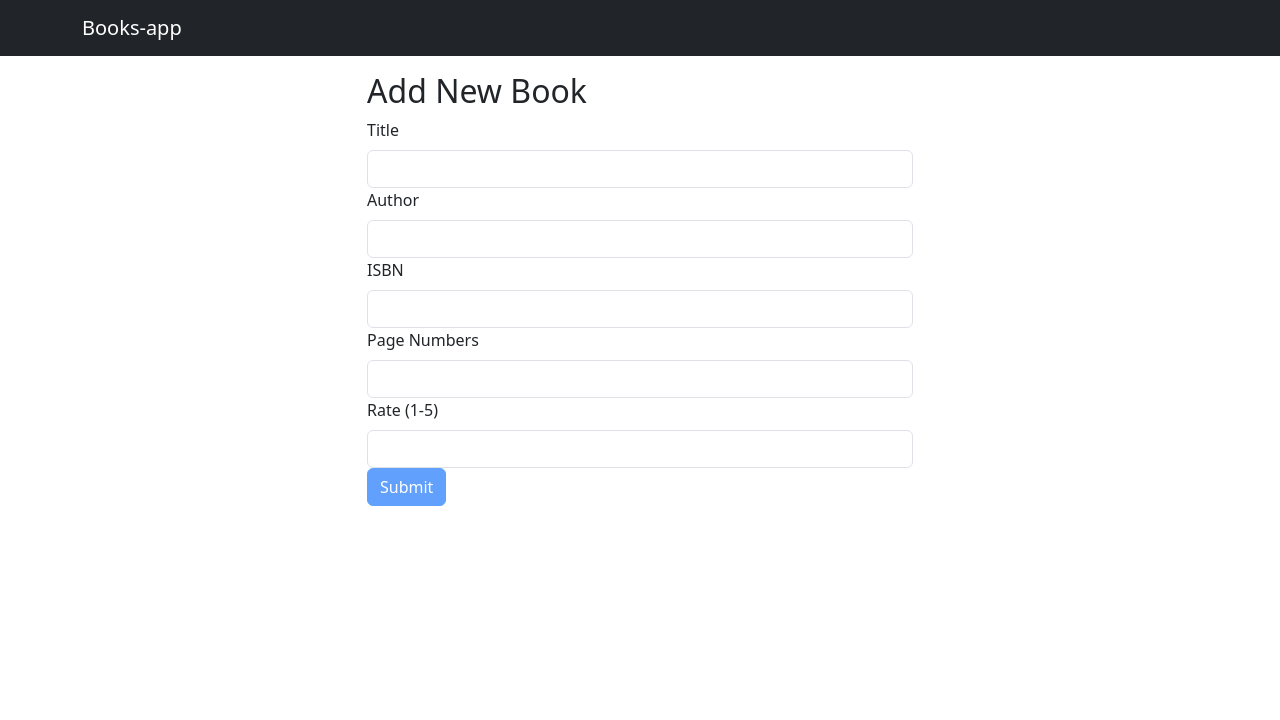
Scenario: BookListPage › should fill form wrongly
Step 1. Type "title" into the field named "title" → point(640, 169), box x1=367 y1=150 x2=913 y2=188
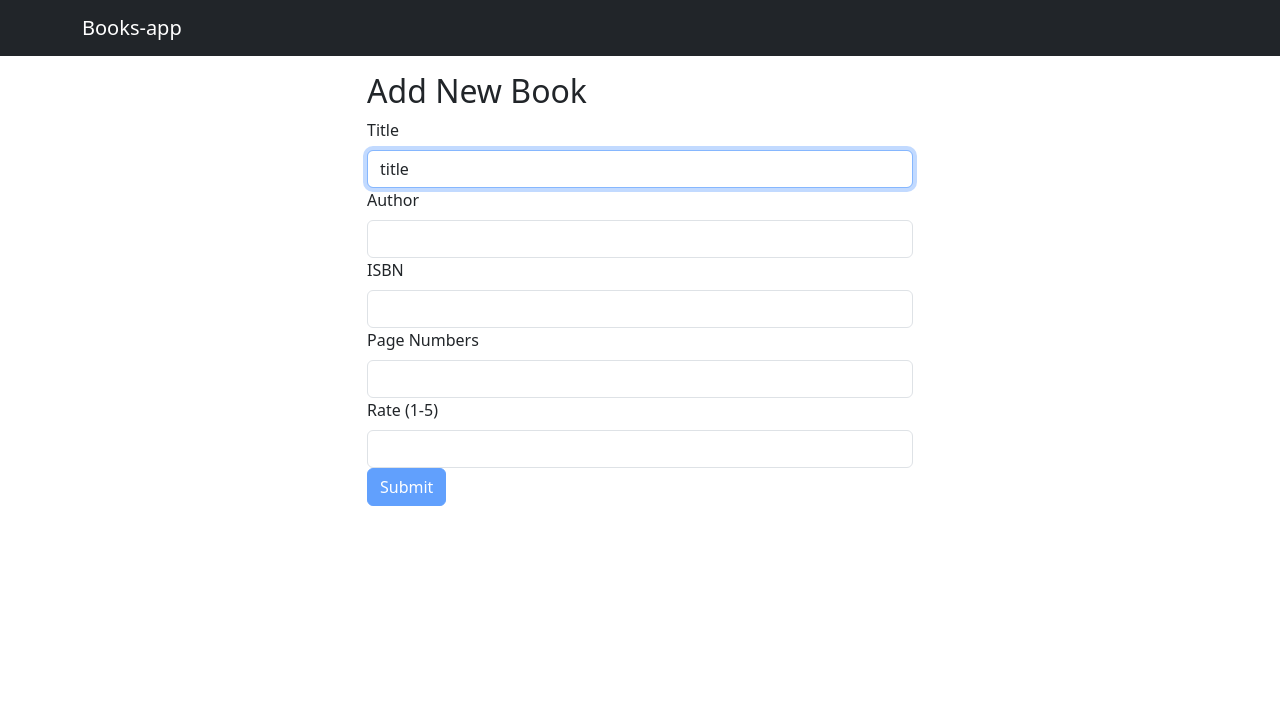
Step 2. Type "author" into the field named "author" → point(640, 239), box x1=367 y1=220 x2=913 y2=258
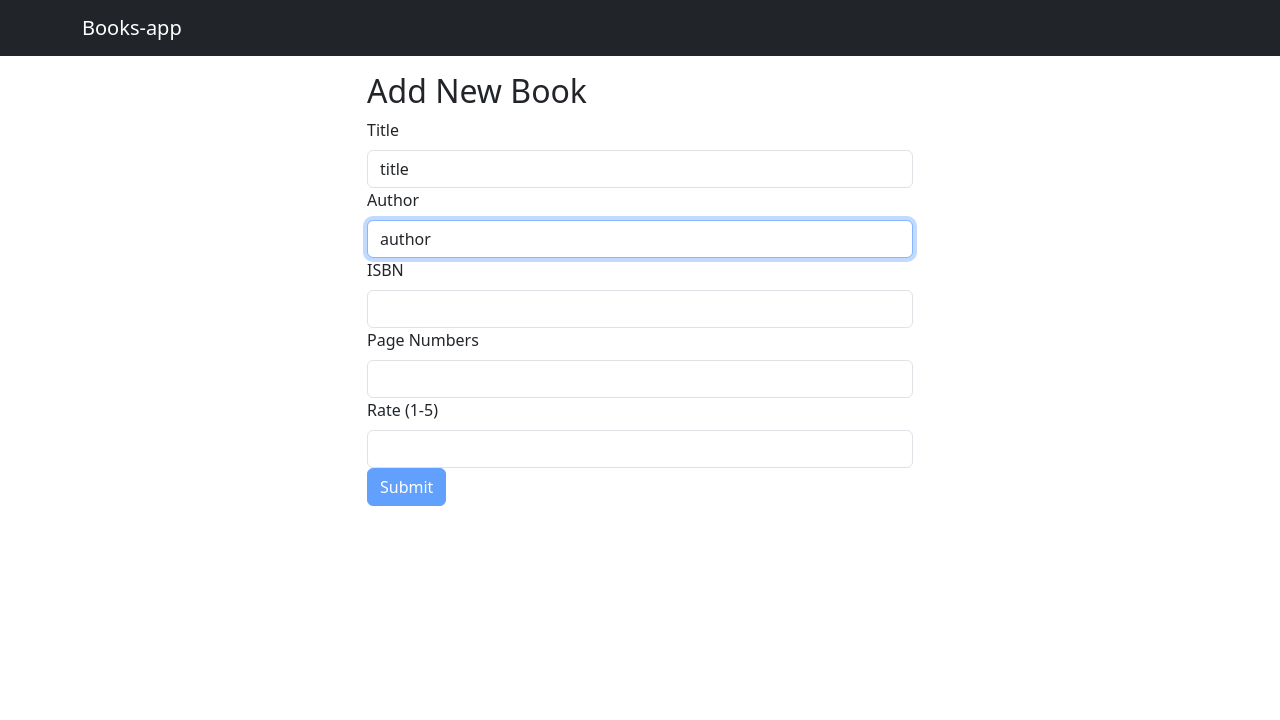
Step 3. Type "Invalid ISBN" into the field named "isbn" → point(640, 309), box x1=367 y1=290 x2=913 y2=328
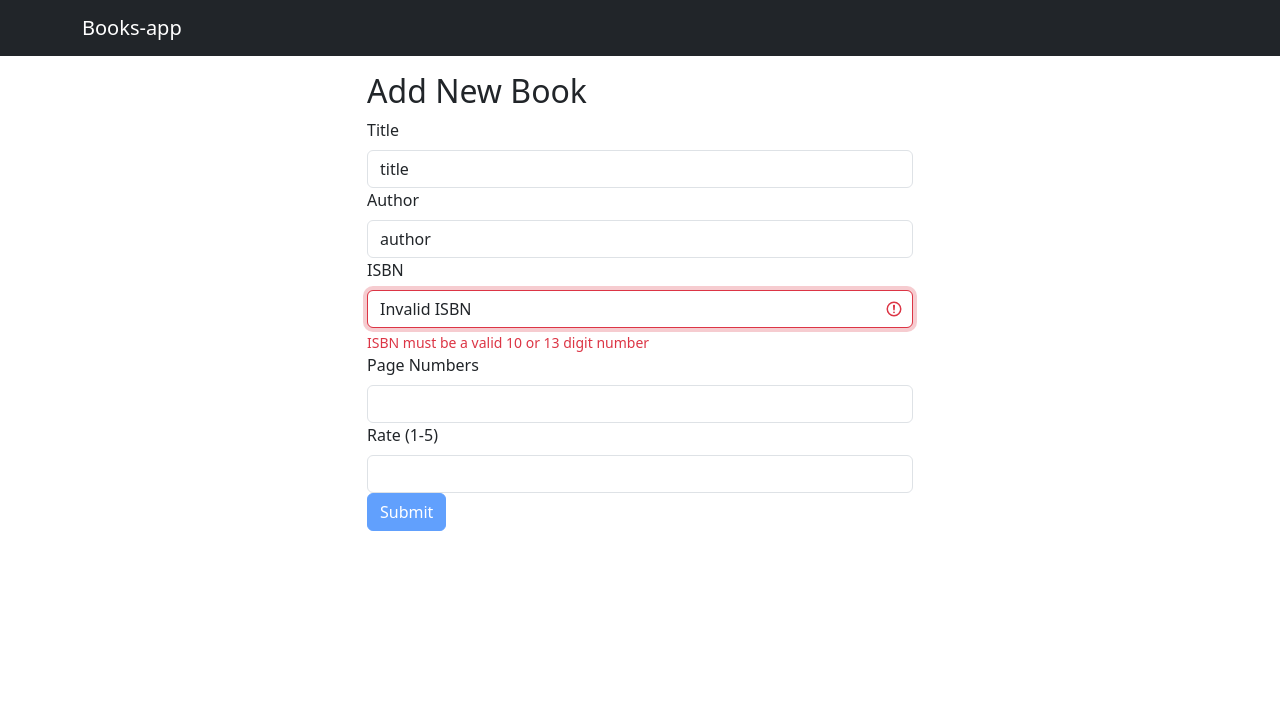
Step 4. Type "0" into the number field named "pagesNumber" → point(640, 404), box x1=367 y1=385 x2=913 y2=423
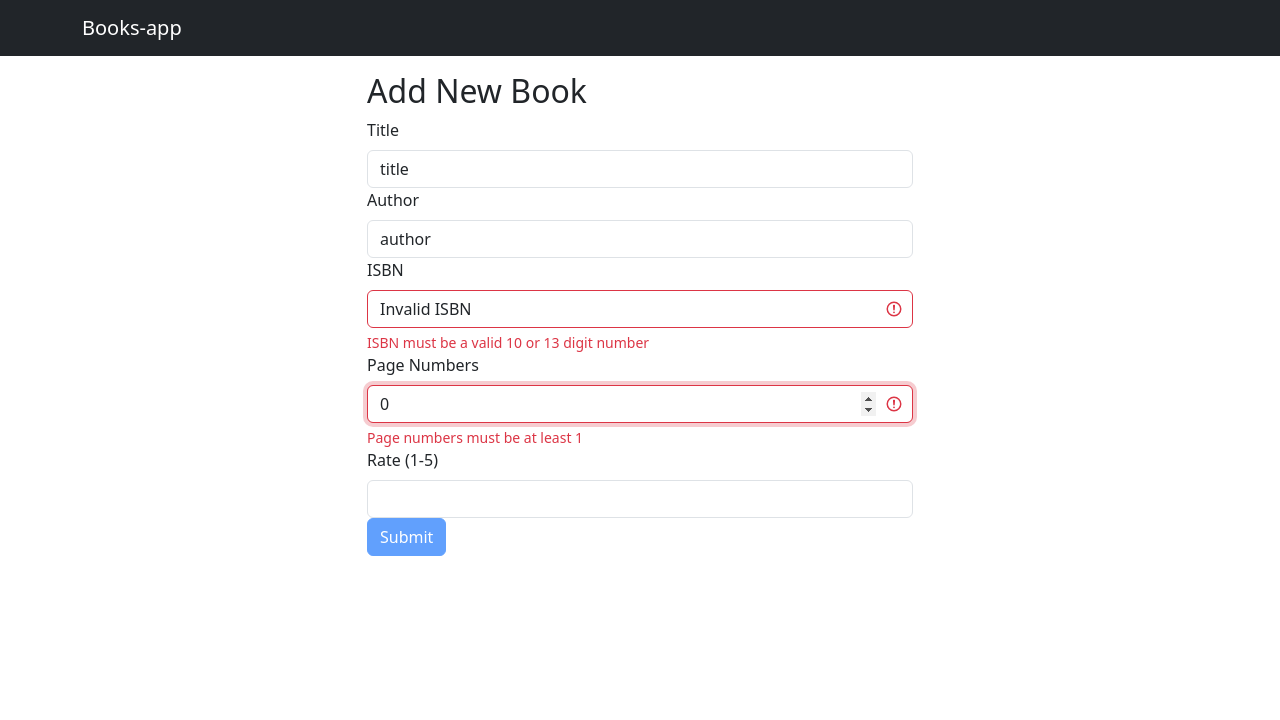
Step 5. Type "0" into the number field named "rate" → point(640, 499), box x1=367 y1=480 x2=913 y2=518
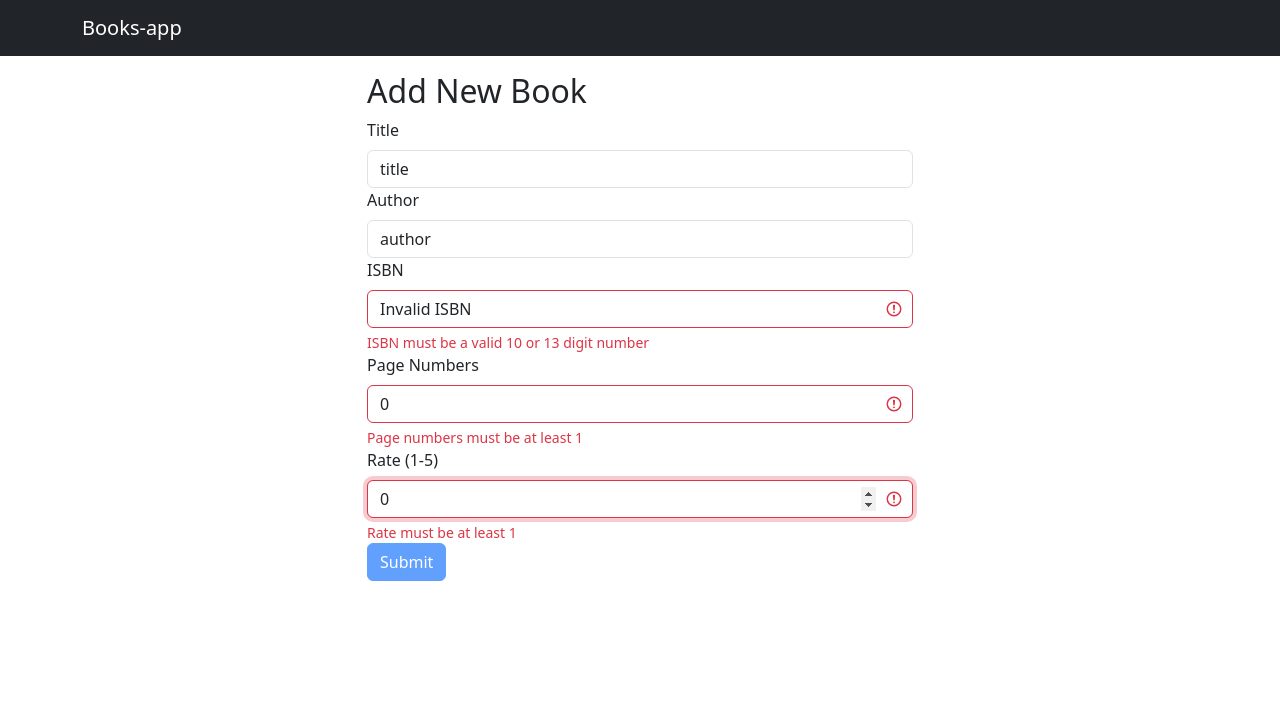
Now the text "ISBN must be a valid 10 or 13 digit number" is shown, box x1=367 y1=333 x2=649 y2=352
Now the text "Page numbers must be at least 1" is shown, box x1=367 y1=428 x2=583 y2=447
Now the text "Rate must be at least 1" is shown, box x1=367 y1=523 x2=517 y2=542
Step 6. Type "6" into the number field named "rate" → point(640, 499), box x1=367 y1=480 x2=913 y2=518
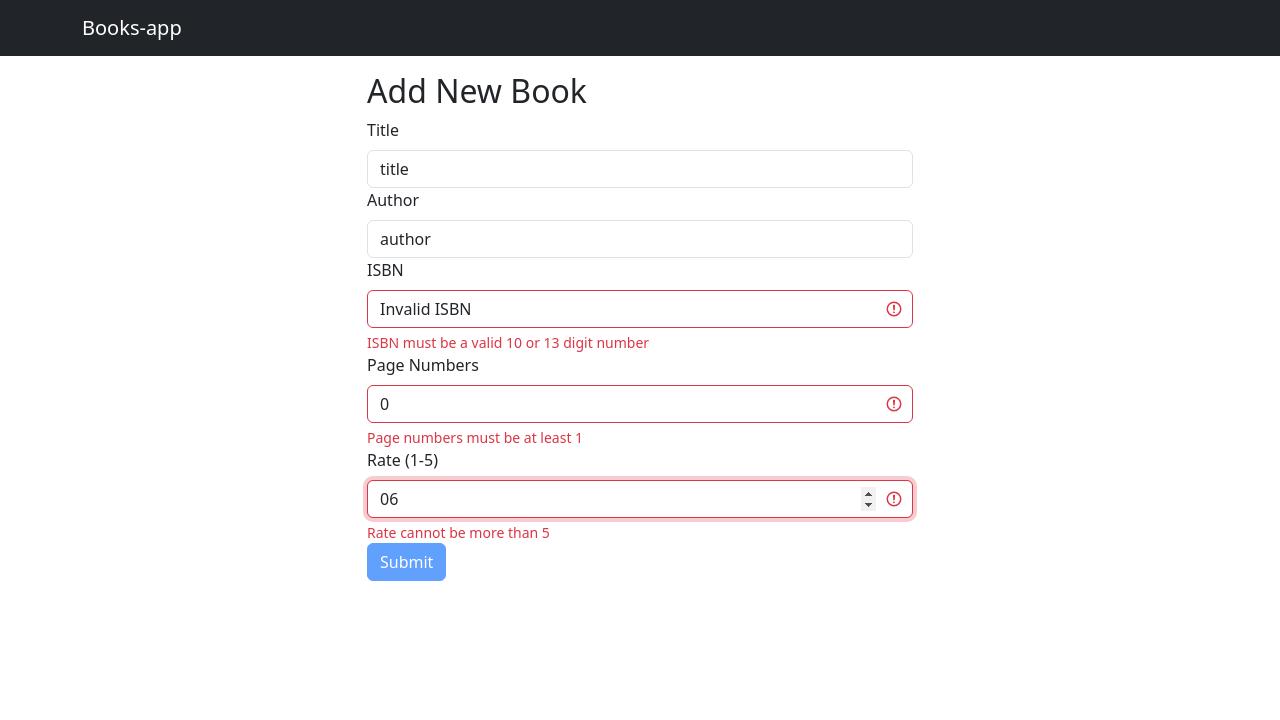
Now the text "Rate cannot be more than 5" is shown, box x1=367 y1=523 x2=550 y2=542
